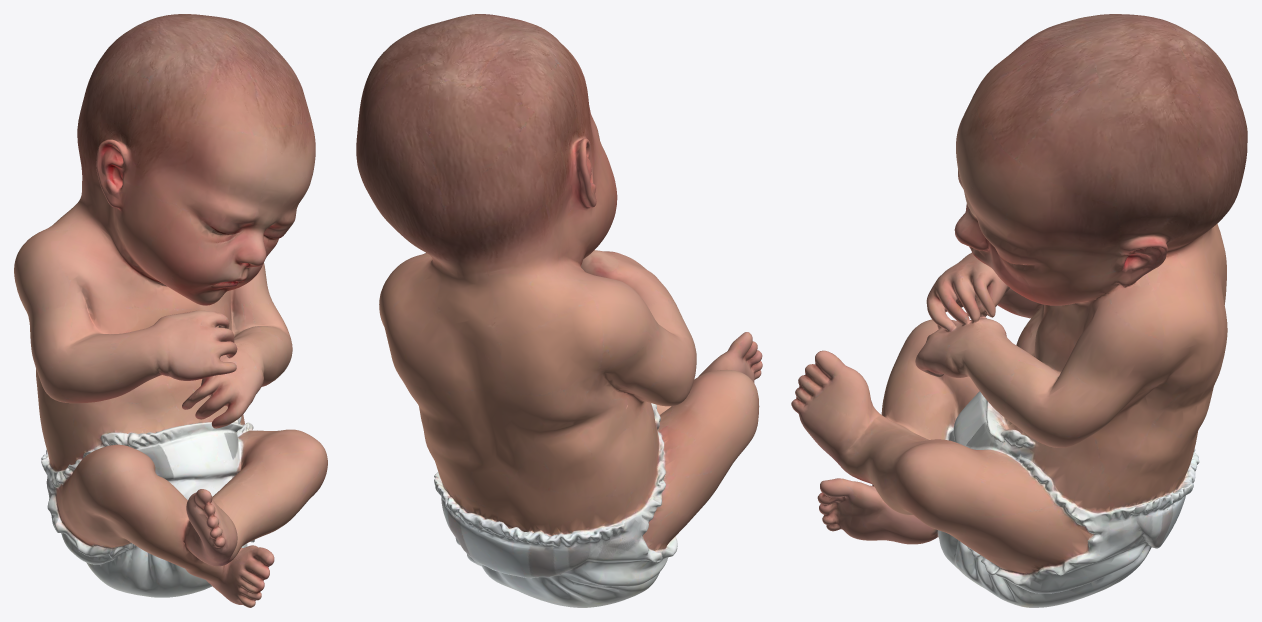
Rendered from baby.glb.
3 renders of one model, left to right at view 1: azimuth 30°, elevation 25°; view 2: azimuth 150°, elevation 25°; view 3: azimuth 270°, elevation 25°, orthographic. The views are drawn at different scales.
Parts seen in each view (by area): view 1: Object_5; view 2: Object_5; view 3: Object_5.
Boxes of the visible parts, x1,y1,x2,y2 form: Object_5: (14, 14, 327, 607); Object_5: (356, 14, 762, 607); Object_5: (791, 14, 1247, 607).
Bounding box in the file's own units: 1.03 × 1.9 × 1.31.
Materials: 1 (1 with a texture image).
